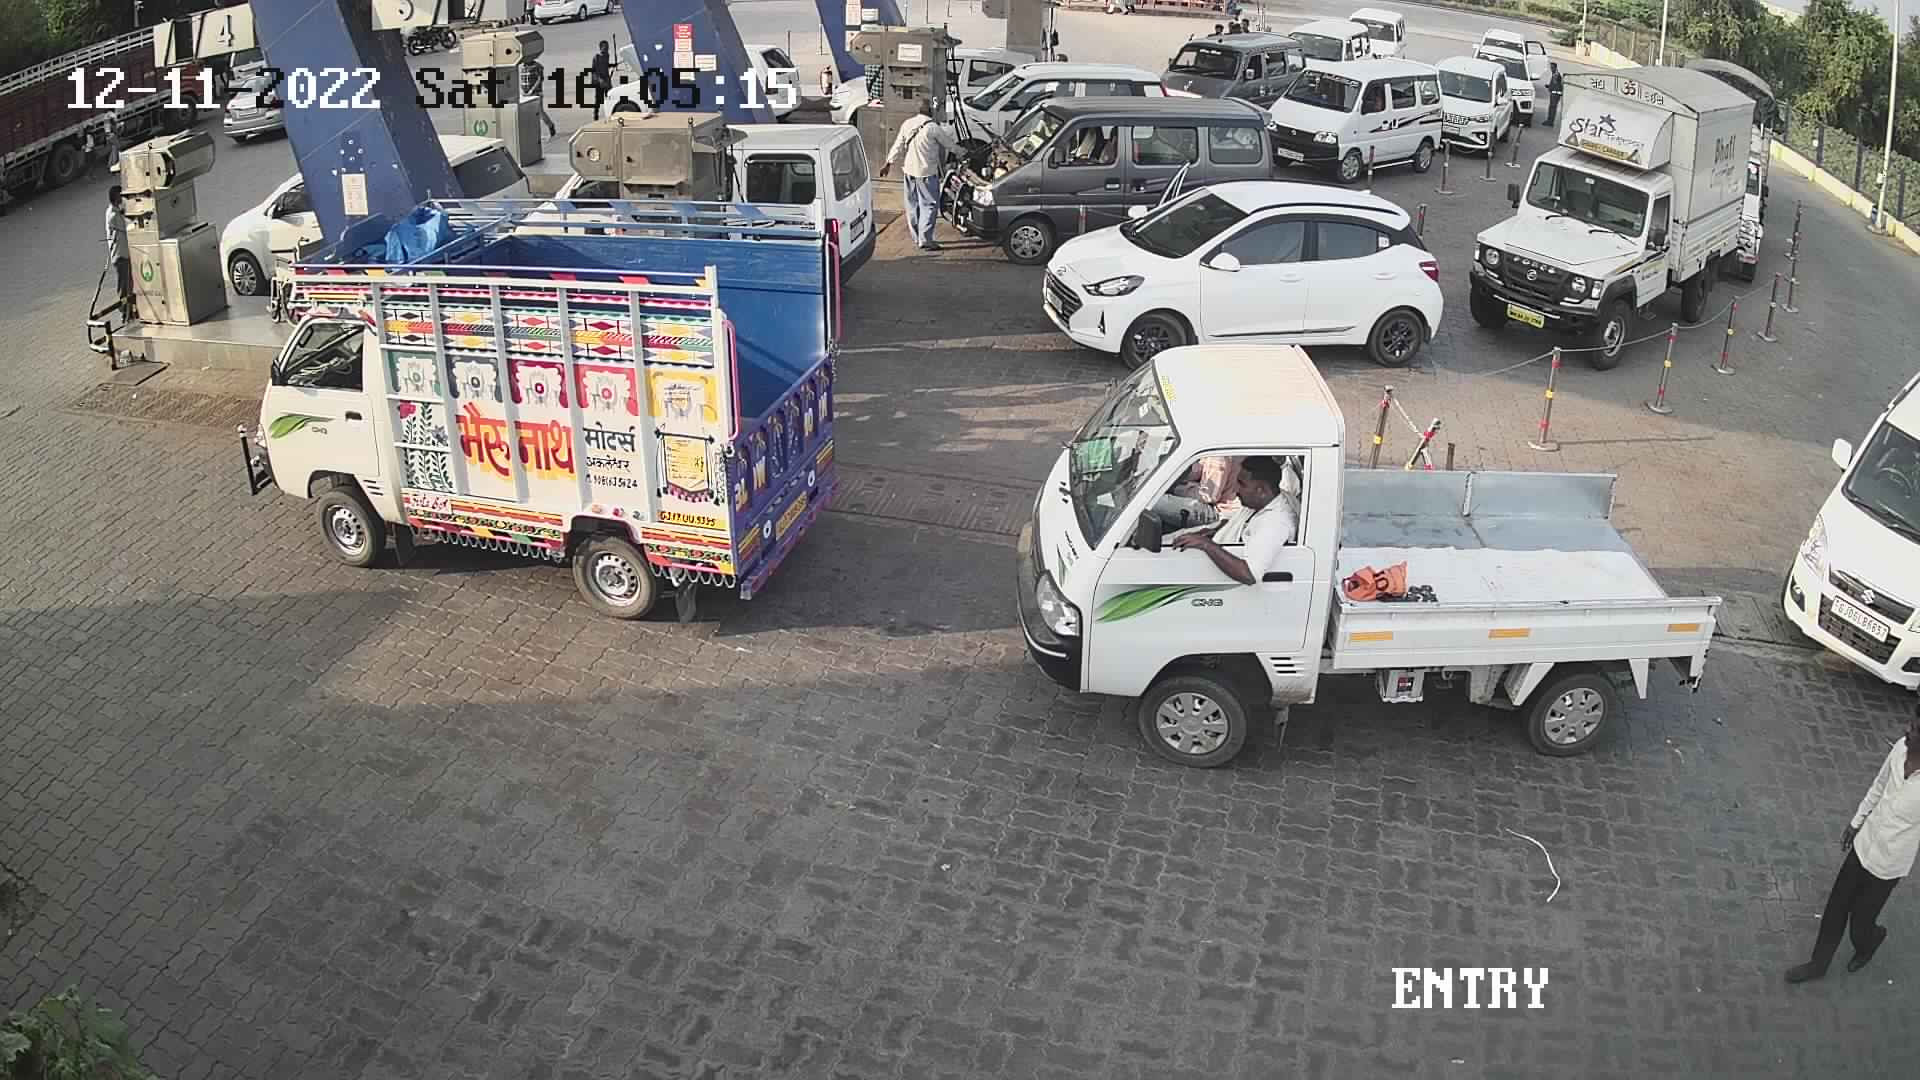Car: (1004, 326, 1731, 766), (229, 189, 848, 633), (1458, 61, 1762, 372), (1048, 167, 1448, 378), (220, 103, 531, 323), (965, 84, 1279, 265), (1779, 338, 1920, 711), (698, 113, 885, 290), (930, 51, 1166, 165), (1255, 51, 1447, 185), (1677, 51, 1783, 287), (1150, 29, 1309, 116), (212, 53, 348, 153), (1428, 47, 1520, 160), (731, 29, 824, 127), (938, 38, 1040, 127), (1469, 24, 1549, 131), (1275, 17, 1375, 76), (1341, 1, 1410, 67)
HMV: (1, 1, 204, 231)
